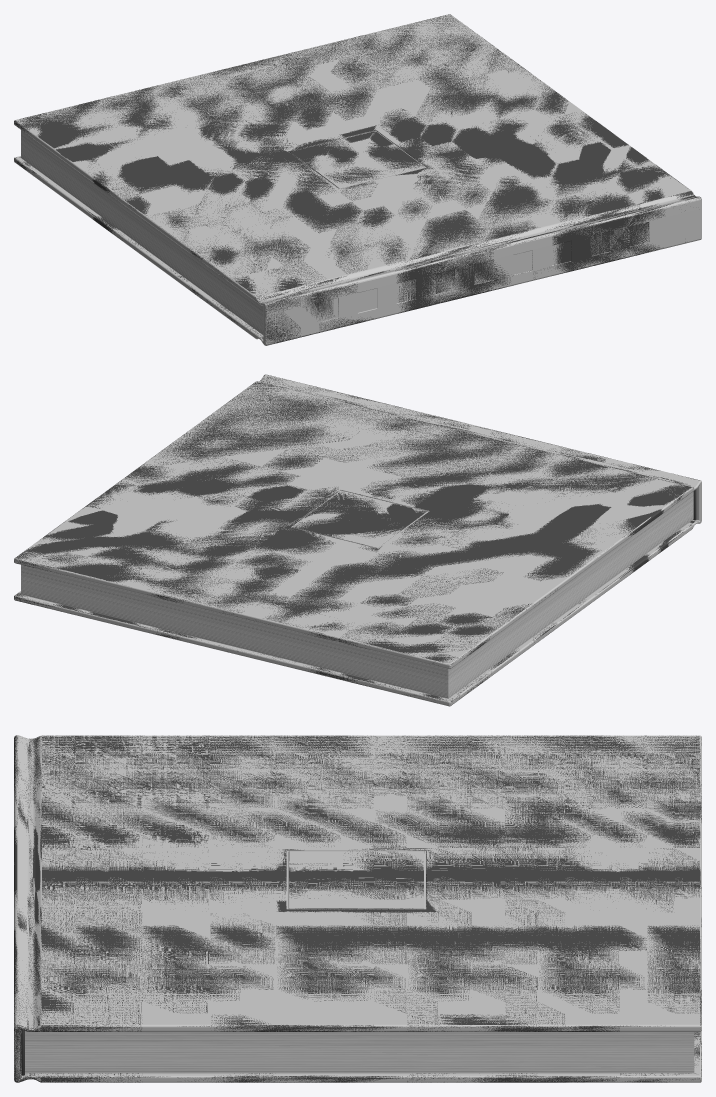
The model's file is new_book_fabric.glb.
3 renders of one model, top to bottom at view 1: azimuth 30°, elevation 25°; view 2: azimuth 150°, elevation 25°; view 3: azimuth 270°, elevation 25°, orthographic. The views are drawn at different scales.
Parts seen in each view (by area): view 1: 无字, 有字.002, Cube.001; view 2: 无字, 有字.002, Cube.001; view 3: 无字, 有字.002, Cube.001.
Boxes of the visible parts, x1,y1,x2,y2 form: 无字: (14,14,701,345); 有字.002: (14,14,701,345); Cube.001: (21,130,263,334); 无字: (14,374,701,706); 有字.002: (14,374,700,705); Cube.001: (21,491,693,698); 无字: (14,735,701,1082); 有字.002: (14,735,701,1082); Cube.001: (25,1031,694,1073).
Size of the model in its own units: 0.27 by 0.0252 by 0.27.
4 materials, 1 textured.
